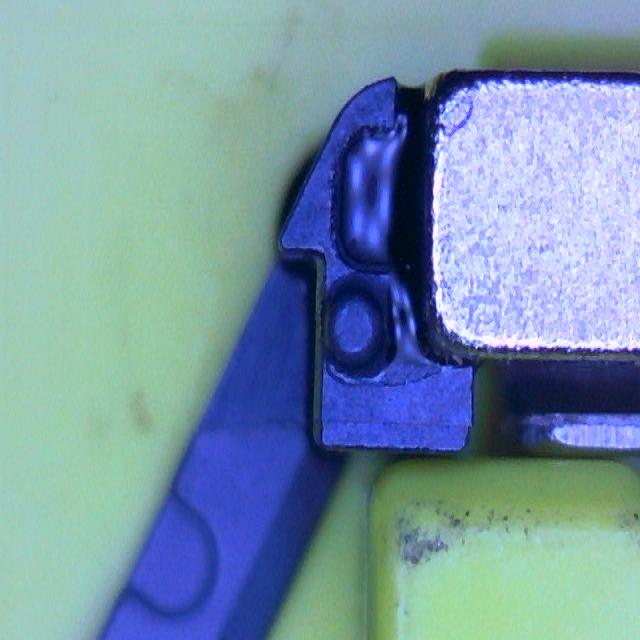over: (332, 124, 410, 276)
